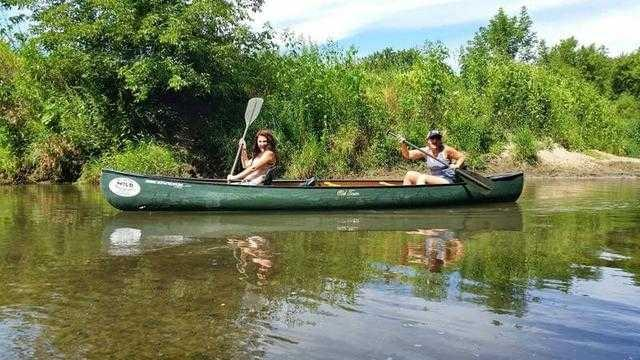kayak: (101, 167, 522, 214)
